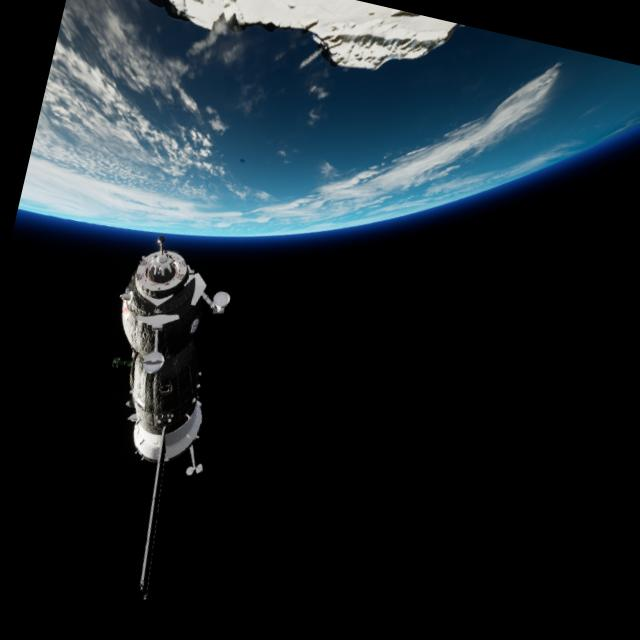Satellites revolving around earth: (81, 228, 252, 480)
